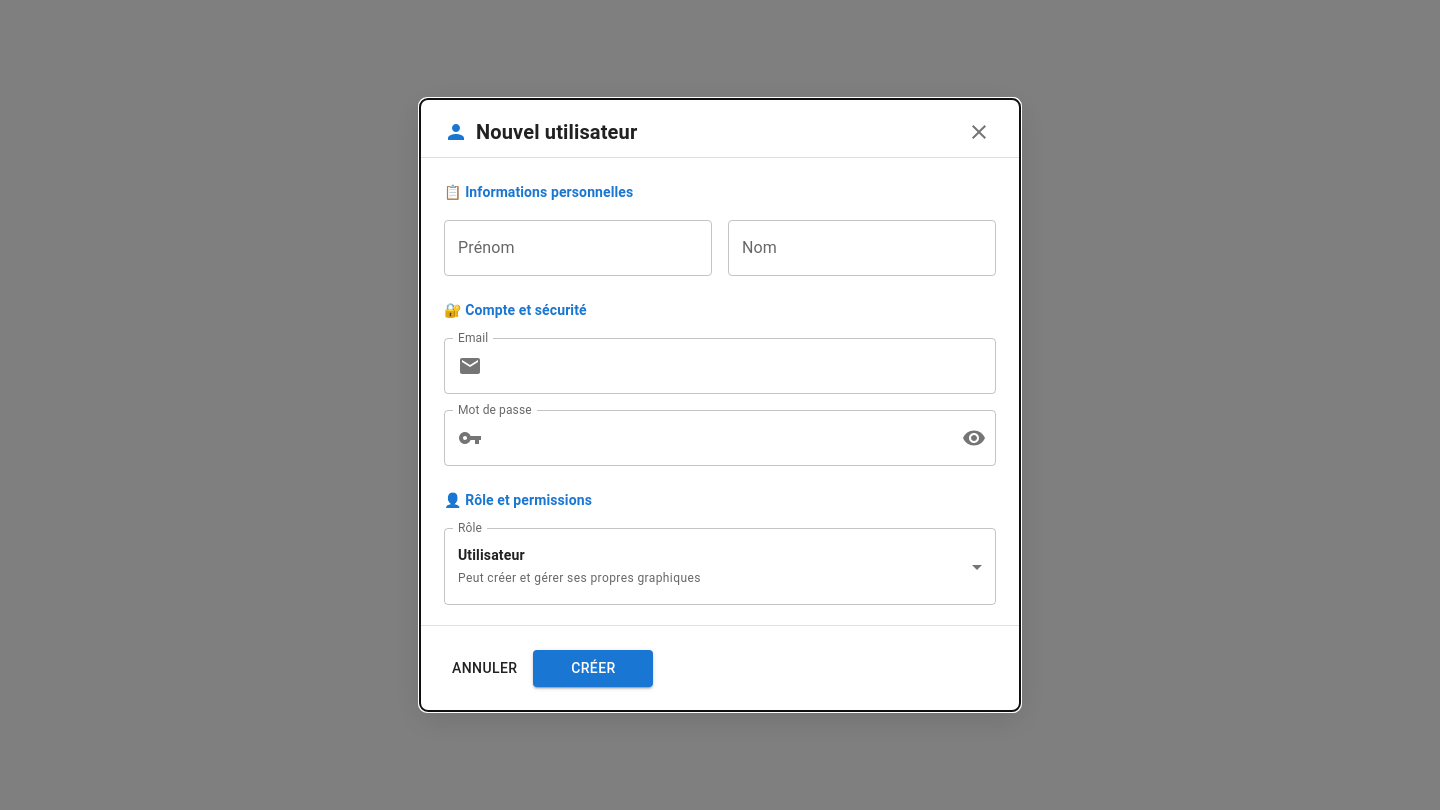
UserManagementDialog — create mode › flags every required field on empty submit
Click the button "Créer". click: (593, 668)
box: [533, 650, 653, 687]
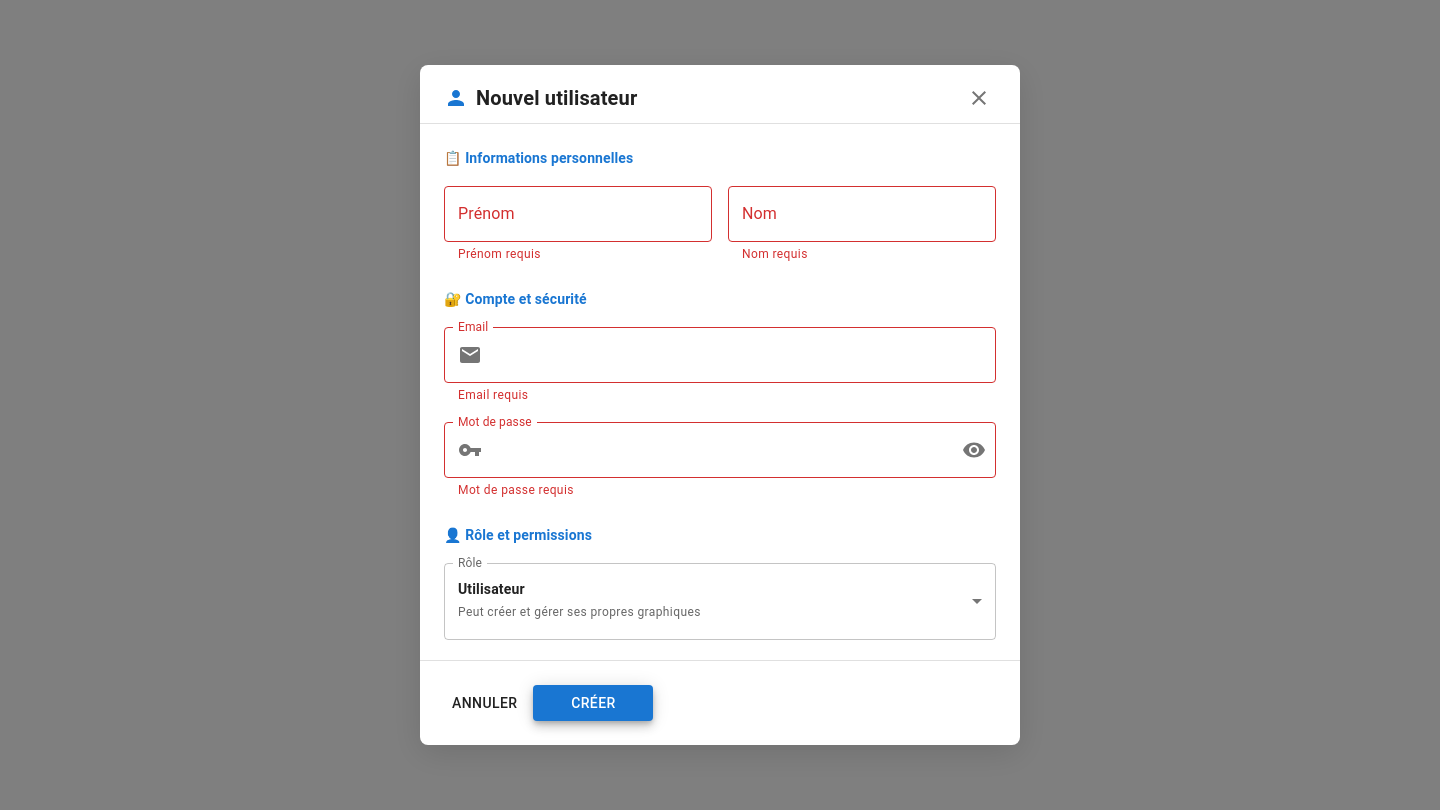
Now the text "Email requis" is shown, box [458, 388, 528, 402]
Now the text "Mot de passe requis" is shown, box [458, 483, 574, 497]
Now the text "Prénom requis" is shown, box [458, 247, 541, 261]
